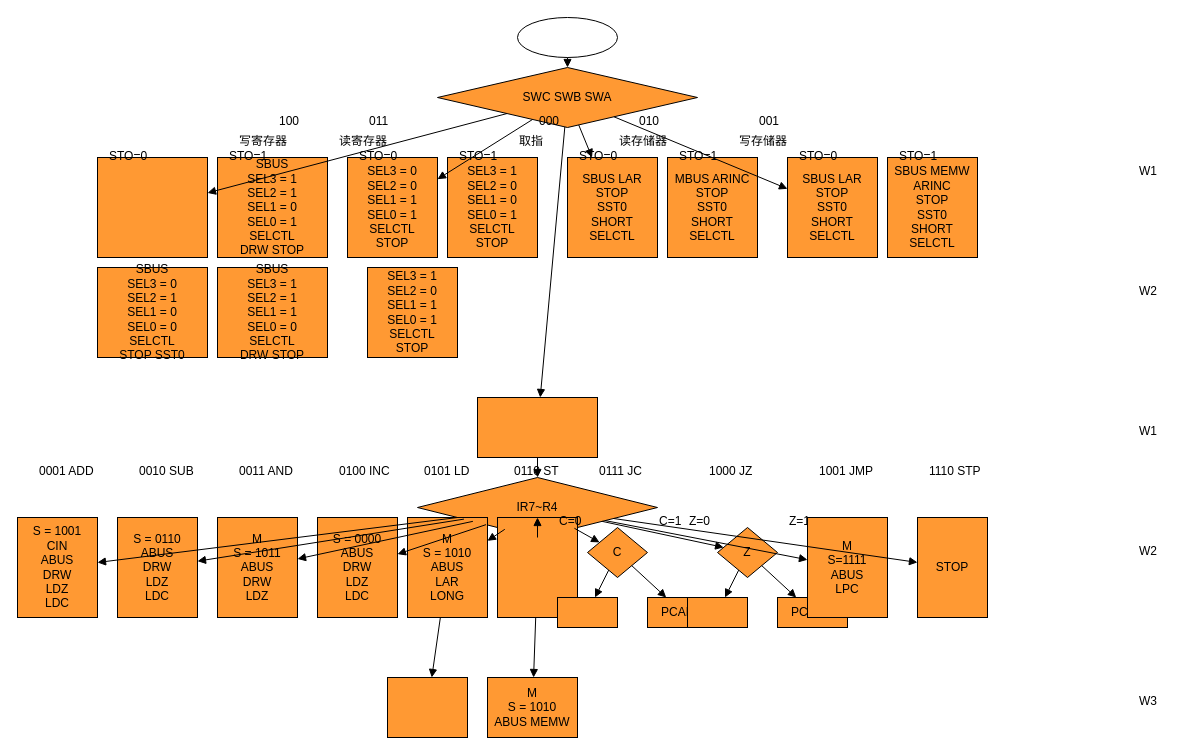
The diagram is 1185 pixels wide and 755 high, and some of its shapes have lost their labels. Here are the shapes that lost their labels. From the top down, the centre of each, then its label:
At point 567,37: "CLR".
At point 152,207: "SBUS SEL3 = 0 SEL2 = 0 SEL1 = 1 SEL0 = 1 SELCTL DRW STOP".
At point 537,427: "LR PCIN C".
At point 537,567: "M S = 1111 ABUS LAR LONG".
At point 427,707: "DRW MBUS".
